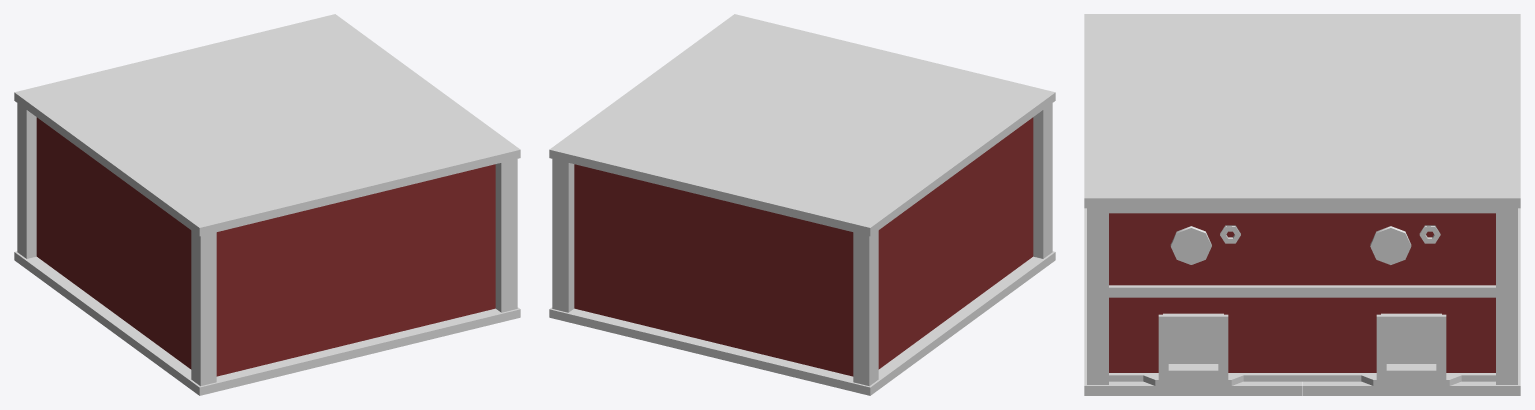
File: Store04.fbx
3 views of the same model, side by side, from view 1: azimuth 30°, elevation 25°; view 2: azimuth 150°, elevation 25°; view 3: azimuth 270°, elevation 25° (orthographic). The views are drawn at different scales.
Visible parts, largest first — view 1: StoreMain, Cube.005, Cube, Cube.004, Pillar.002, Pillar.004, Pillar.001, Cube.003; view 2: StoreMain, Cube, Cube.005, Cube.003, Pillar.001, Pillar.003, Pillar.002, Cube.004; view 3: StoreMain, Cube, Cube.005, RimMid.003, Pillar.003, Pillar.004, Cube.003, Cube.004, OutputTerminator, OutputTerminator.001, OutputPipe, OutputPipe.001 (+6 smaller).
Part boxes in pixels (box(x1,y1,x2,y2)): StoreMain: box(36, 117, 495, 376); Cube.005: box(107, 82, 520, 236); Cube: box(14, 14, 427, 168); Cube.004: box(107, 307, 520, 395); Pillar.002: box(191, 230, 216, 386); Pillar.004: box(495, 159, 517, 312); Pillar.001: box(17, 103, 36, 258); Cube.003: box(14, 251, 118, 327); StoreMain: box(574, 117, 1033, 376); Cube: box(549, 82, 962, 236); Cube.005: box(642, 14, 1055, 168); Cube.003: box(549, 307, 962, 395); Pillar.001: box(853, 230, 878, 386); Pillar.003: box(552, 159, 574, 312); Pillar.002: box(1033, 103, 1052, 258); Cube.004: box(951, 251, 1055, 327); StoreMain: box(1109, 213, 1495, 372); Cube: box(1302, 14, 1520, 208); Cube.005: box(1084, 14, 1302, 208); RimMid.003: box(1109, 285, 1495, 297); Pillar.003: box(1496, 208, 1517, 384); Pillar.004: box(1087, 208, 1108, 384); Cube.003: box(1302, 208, 1520, 395); Cube.004: box(1084, 208, 1302, 395); OutputTerminator: box(1158, 314, 1228, 379); OutputTerminator.001: box(1376, 314, 1446, 379); OutputPipe: box(1163, 313, 1223, 368); OutputPipe.001: box(1381, 313, 1441, 368).
Bounding box in the file's own units: 800 × 400 × 800.
